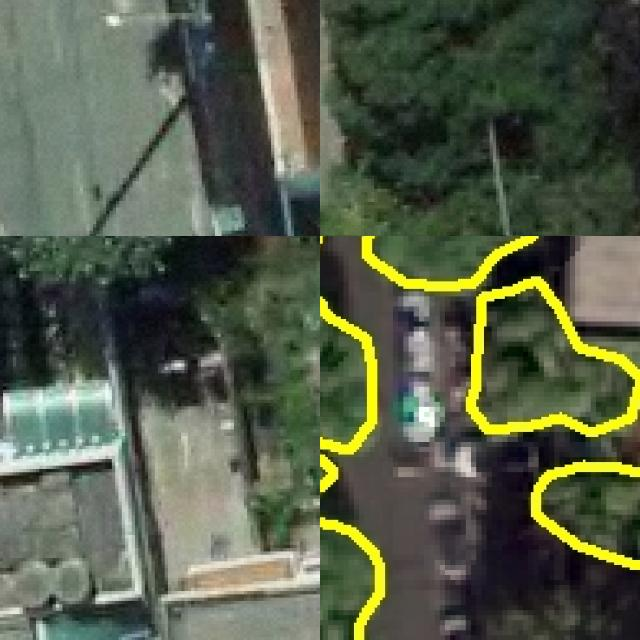trees: (321, 1, 640, 237), (469, 280, 640, 433), (534, 466, 640, 568), (365, 237, 534, 287), (321, 300, 373, 451), (321, 521, 381, 640)
